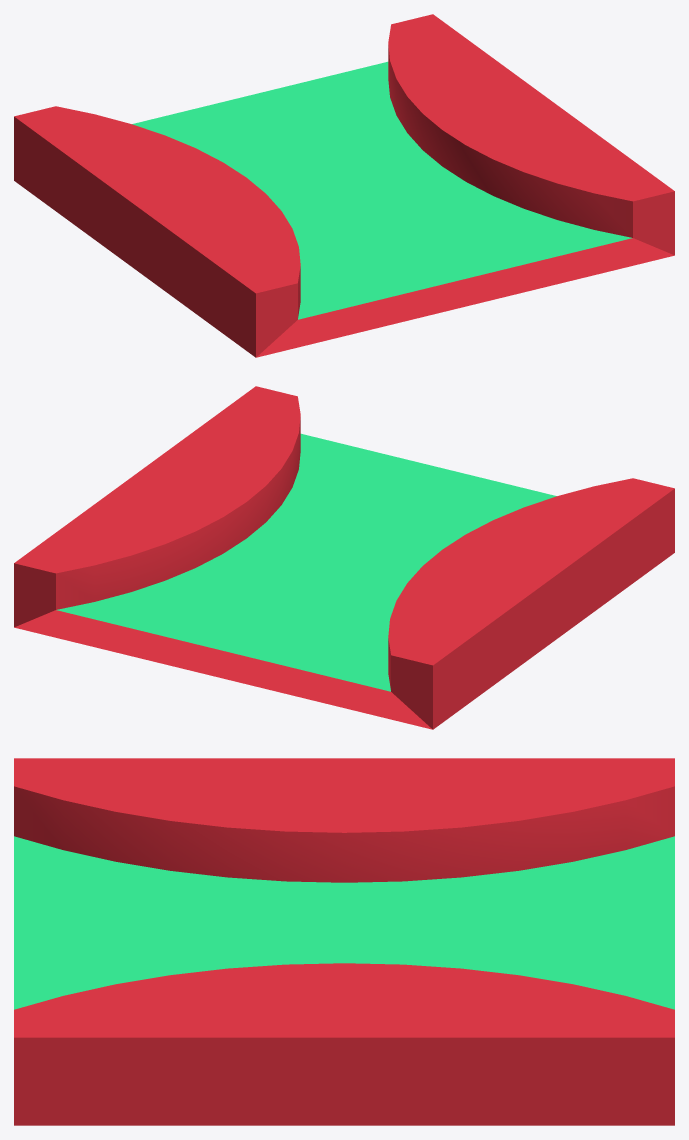
The model's file is narrowRound.fbx.
3 renders of one model, top to bottom at view 1: azimuth 30°, elevation 25°; view 2: azimuth 150°, elevation 25°; view 3: azimuth 270°, elevation 25°, orthographic. The views are drawn at different scales.
Visible parts, largest first — view 1: narrowRound; view 2: narrowRound; view 3: narrowRound.
Boxes of the visible parts, box(x1,y1,x2,y2) form: narrowRound: box(14, 14, 674, 357); narrowRound: box(14, 386, 674, 729); narrowRound: box(14, 758, 674, 1125).
Size of the model in its own units: 99.99 by 99.99 by 14.67.
